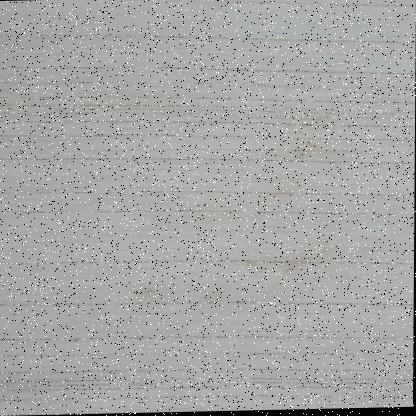spot: (238, 252, 316, 275), (263, 176, 313, 205), (283, 135, 320, 170), (329, 151, 349, 180), (202, 286, 226, 304), (319, 240, 339, 257), (137, 288, 159, 300)
